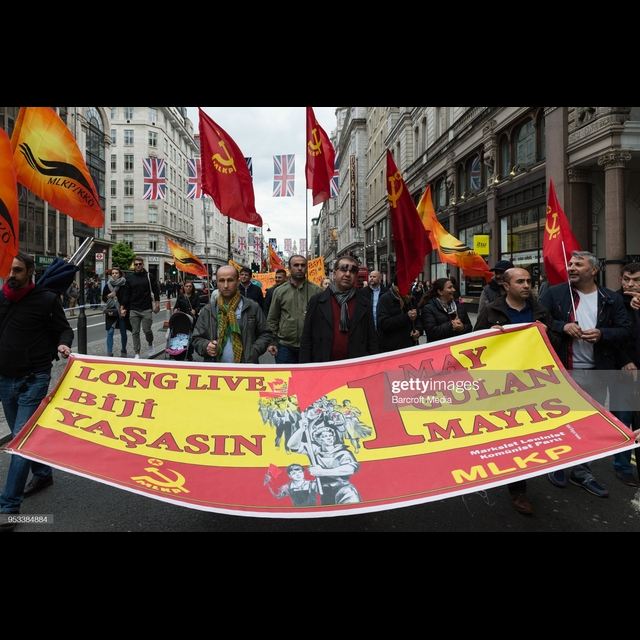MLKP: (125, 451, 193, 498), (207, 129, 238, 183), (378, 162, 408, 210), (541, 197, 563, 242), (305, 120, 325, 161)
